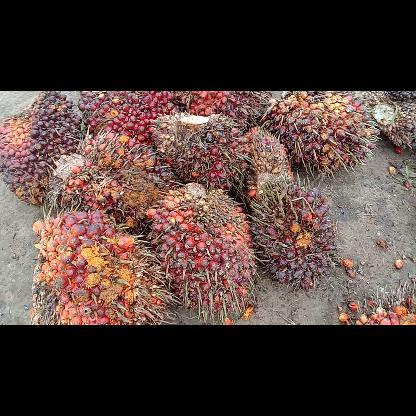TBS masak: (30, 212, 180, 323), (150, 184, 262, 322), (52, 133, 182, 227), (254, 177, 344, 289), (266, 92, 384, 170), (2, 92, 82, 204), (150, 116, 248, 194), (78, 91, 174, 143), (176, 92, 274, 130), (244, 127, 296, 189)
